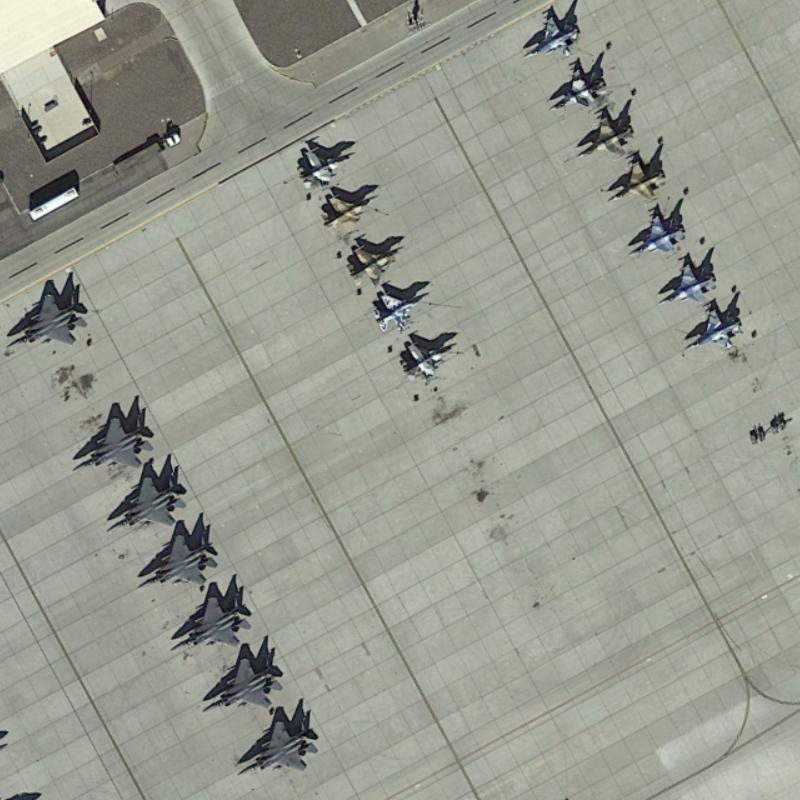A13: (93, 460, 190, 536), (231, 708, 324, 784), (2, 275, 96, 350), (165, 582, 256, 655), (64, 403, 157, 474), (193, 646, 286, 712), (130, 523, 220, 590)
A5: (520, 0, 589, 63), (676, 296, 747, 357), (599, 149, 676, 205), (394, 327, 464, 388), (652, 251, 723, 310), (625, 199, 690, 261), (546, 54, 613, 114), (340, 232, 405, 291), (570, 105, 637, 160), (293, 132, 353, 192), (319, 185, 382, 240), (368, 281, 433, 333)
